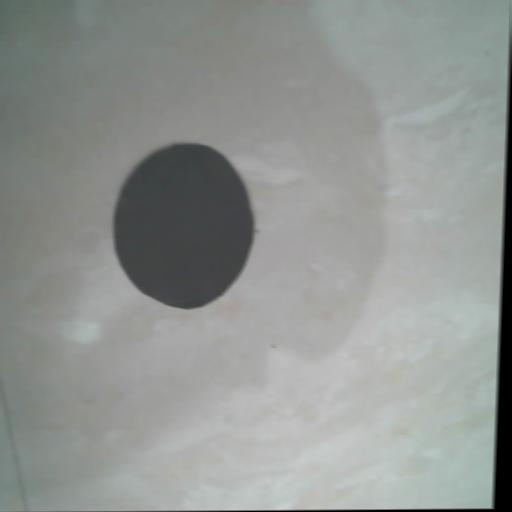pothole: (109, 141, 258, 310)
